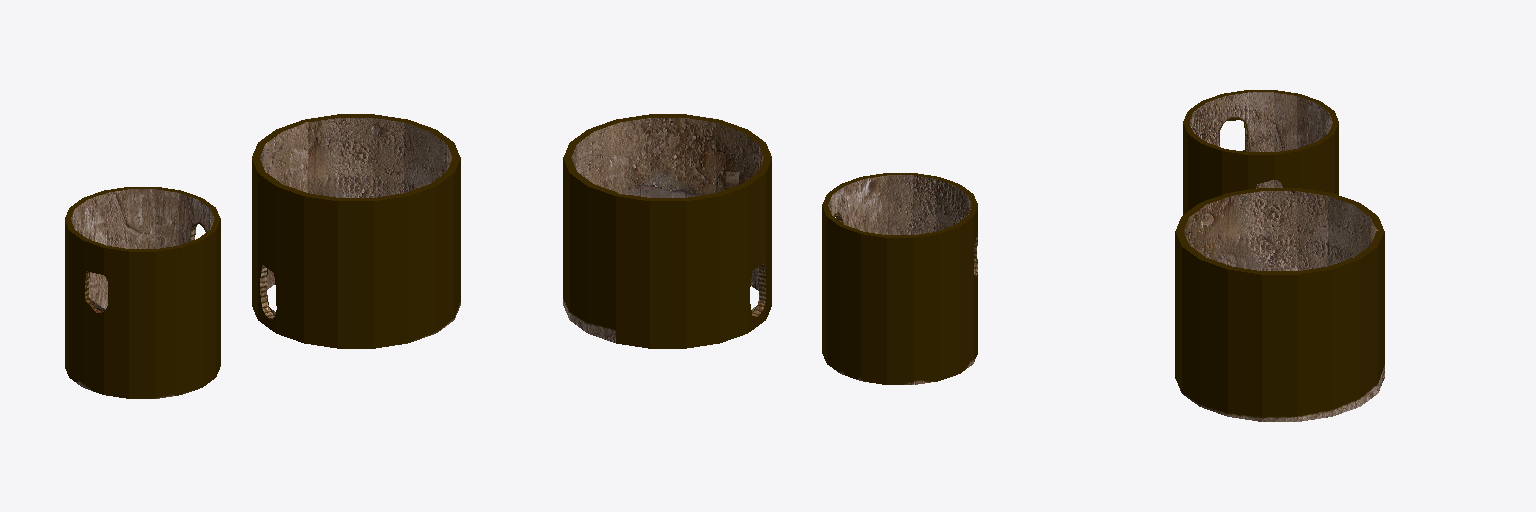
The picture shows the model from 3 angles: view 1: azimuth 30°, elevation 25°; view 2: azimuth 150°, elevation 25°; view 3: azimuth 270°, elevation 25°; orthographic projection.
Visible parts, largest first — view 1: Tube001, Tube002; view 2: Tube001, Tube002; view 3: Tube001, Tube002.
Part boxes in pixels (x1,y1,x2,y2): Tube001: (252,114,460,348); Tube002: (65,187,220,398); Tube001: (563,114,771,348); Tube002: (822,173,977,384); Tube001: (1175,188,1384,421); Tube002: (1183,90,1338,214).
Bounding box in the file's own units: 36.88 × 13.71 × 17.64.
Materials: 1 (1 with a texture image).